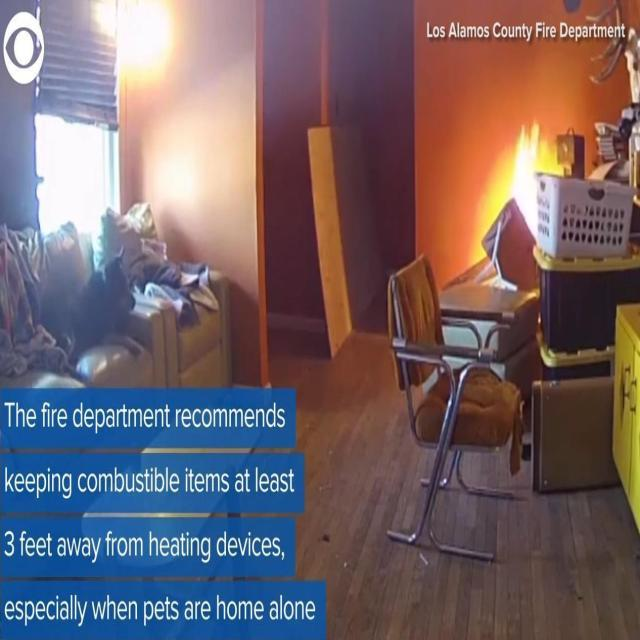smoke: (509, 121, 562, 236)
